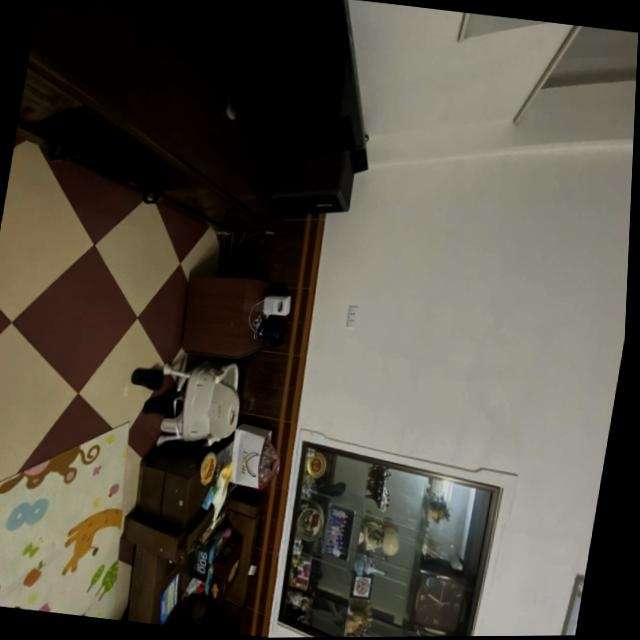outlet: (344, 304, 359, 328)
